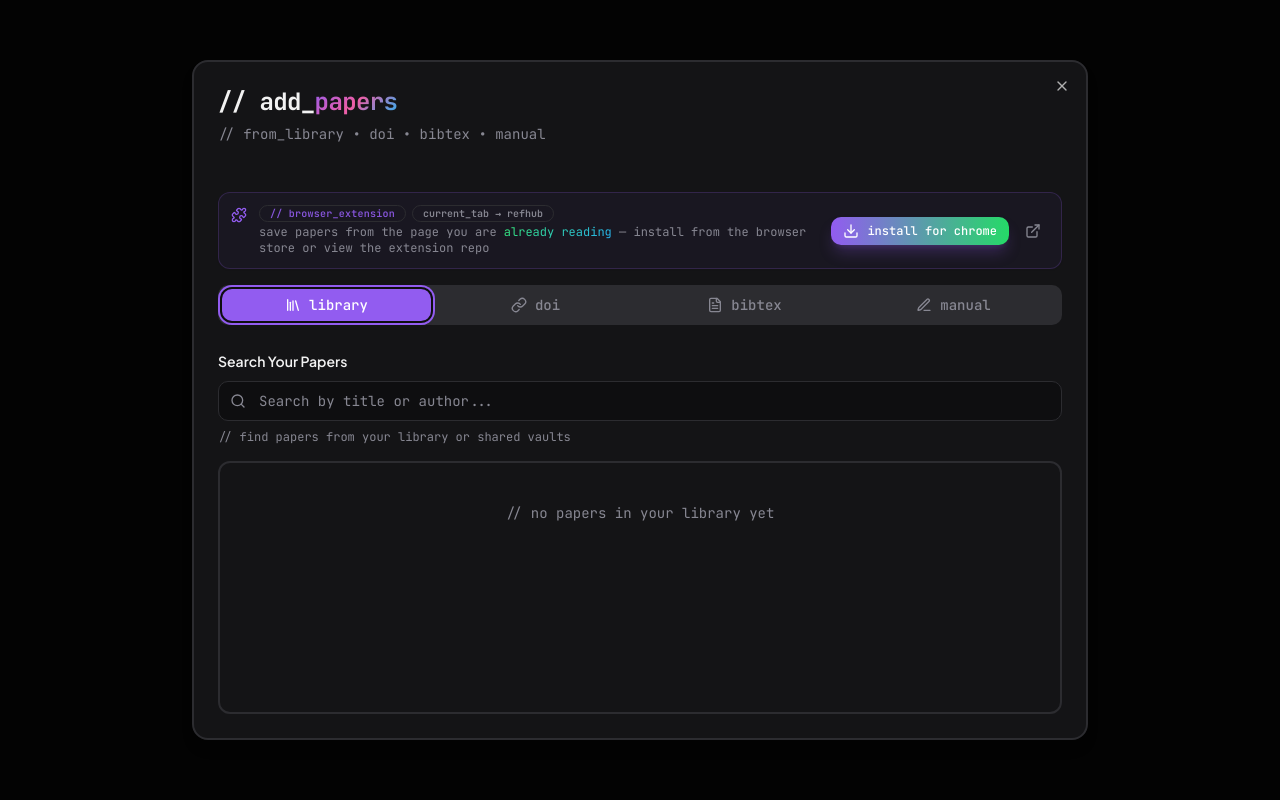
Test: AddImportDialog — pre-import relationship scan (ephemeral, single paper + vault) › shows a scan button once a single DOI-bearing paper is looked up with a target vault already chosen
Press the mouse on the tab "doi" at {"x": 536, "y": 305}, box [431,289,640,321]
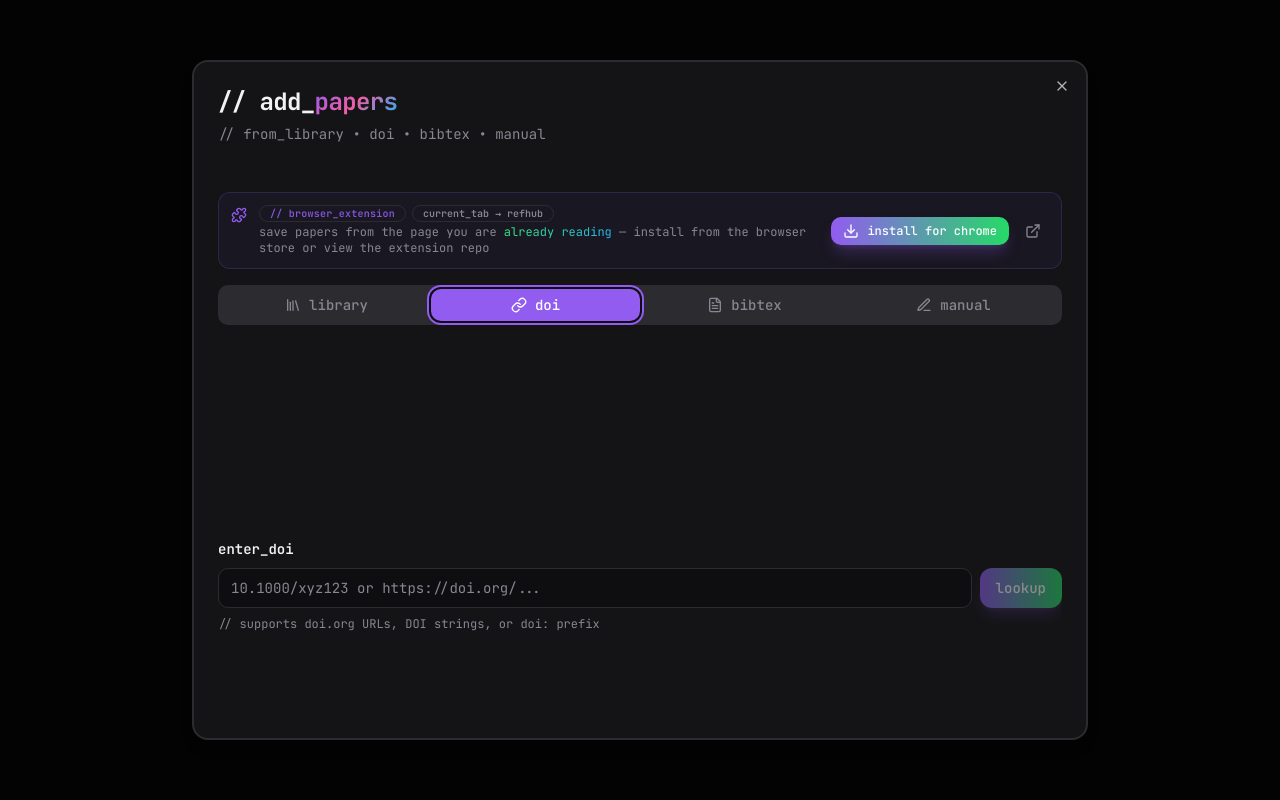
Type "10.1/resolved" into the field with placeholder "10.1000/xyz123 or https://doi.org/..." at {"x": 595, "y": 588}, box [218,568,972,608]
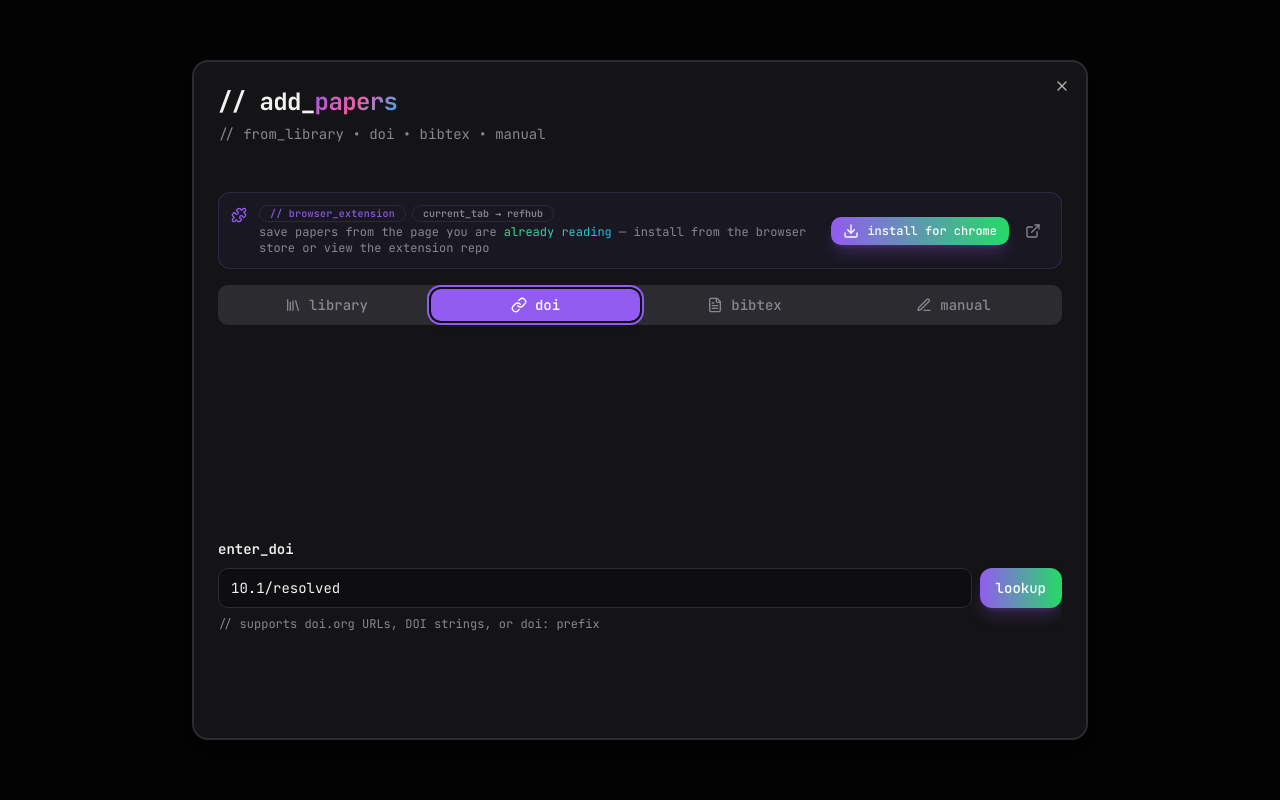
Click the button "lookup" at {"x": 1021, "y": 588}, box [980,568,1062,608]
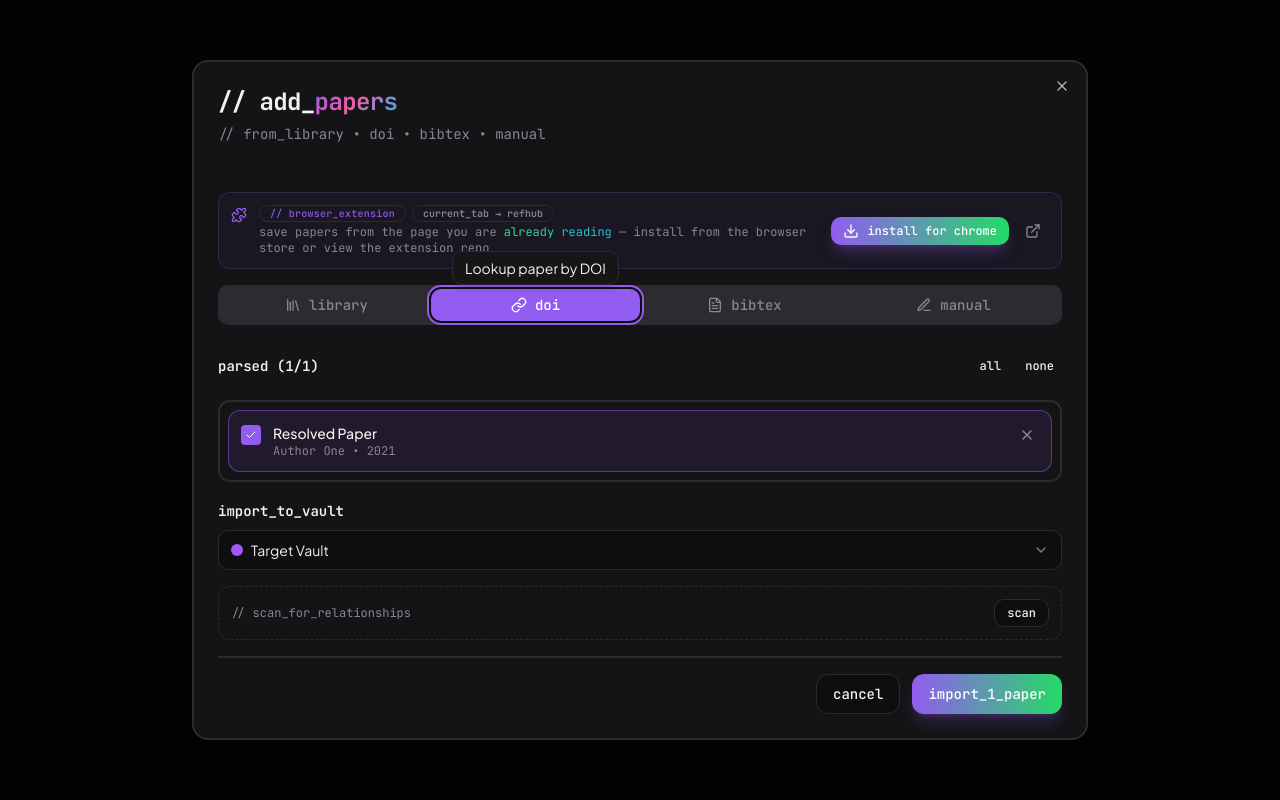
Now the text "Resolved Paper" is shown, box [273,424,377,442]
Now the button "scan" is shown, box [994,599,1049,627]
